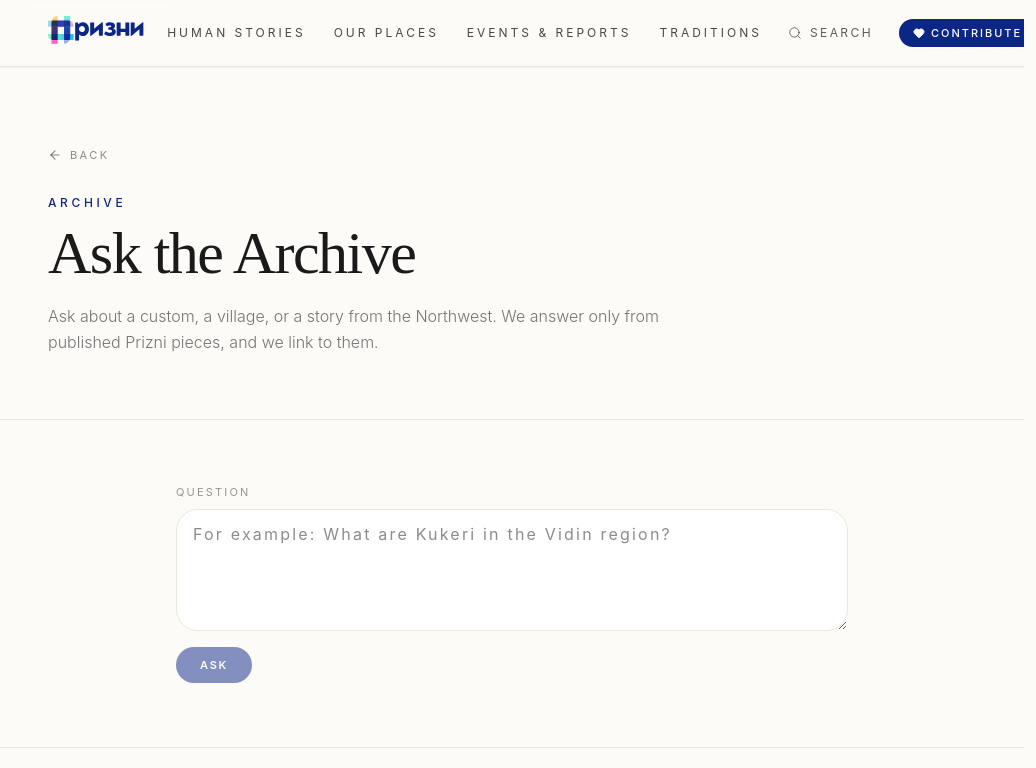
Scenario: ArchivePage › asks the archive and shows citations
Type "What are Kukeri?" into the text box with placeholder "For example: What are Kukeri in the Vidin region?".
click(512, 570); type("What are Kukeri?")  # box left=176, top=509, right=848, bottom=631
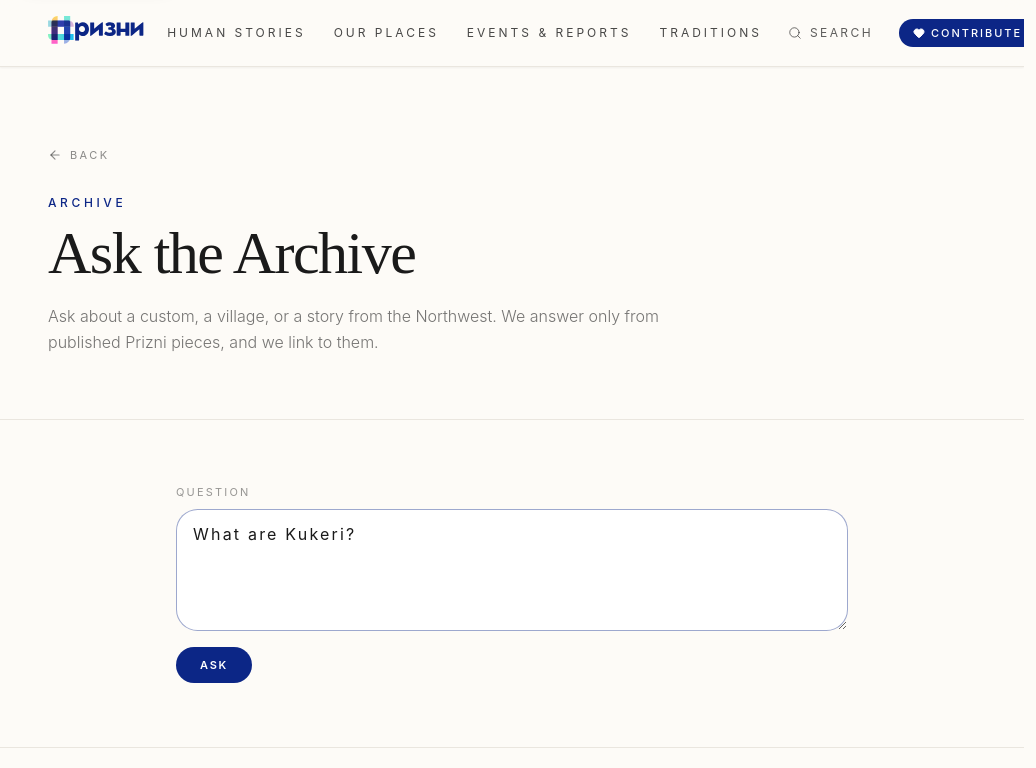
Click the button "Ask".
click(214, 665)  # box left=176, top=647, right=252, bottom=683
(page scrolled)
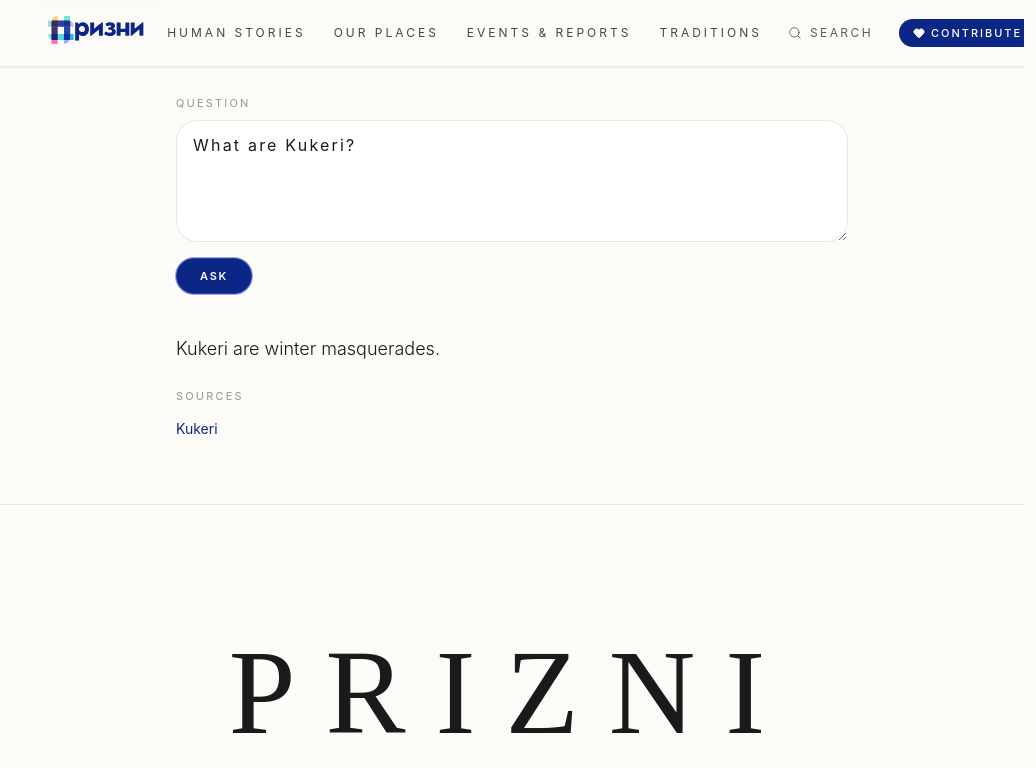
Now the text "Kukeri are winter masquerades." is shown, box left=176, top=338, right=440, bottom=359
